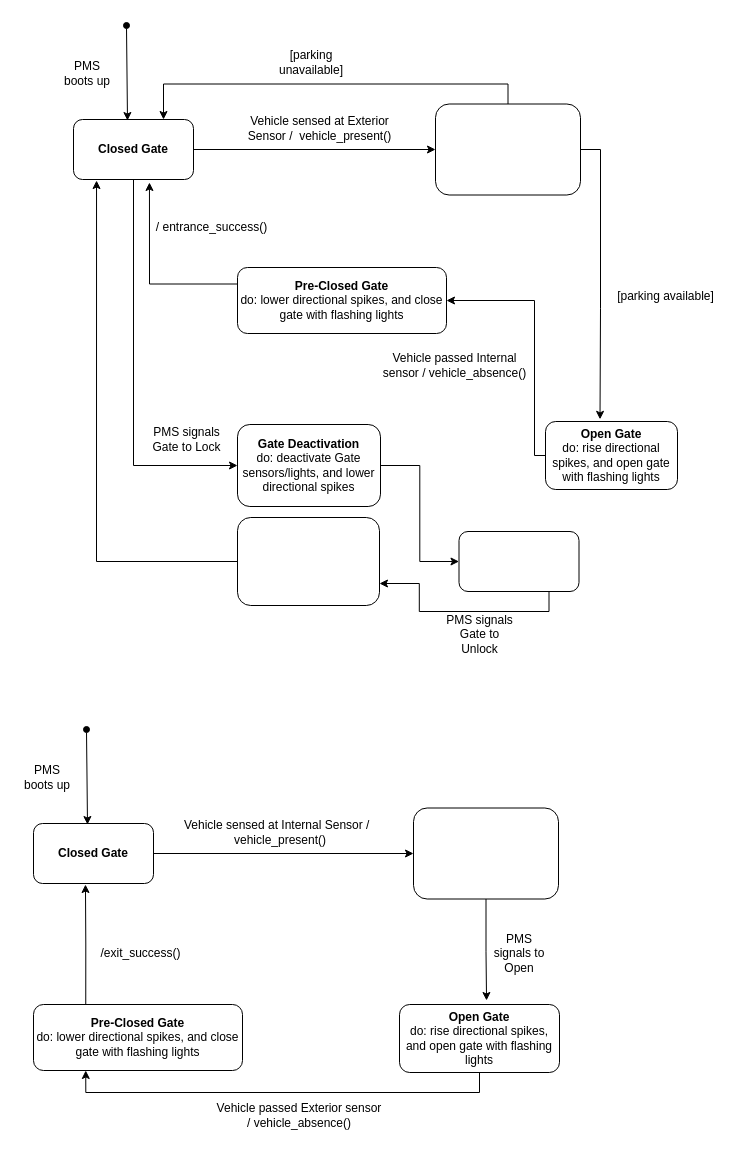
This 743x1175 diagram has some shape labels left out. Each missing label, with the box of its shape:
Gate Reactivation do: reactivate gate sensors/lights: (236, 516, 380, 606)
Locked Gate: (458, 530, 579, 592)
Pre-Opened Gate do: analyze PMS signal: (412, 807, 558, 899)
Pre-Opened Gate do: verify availability: (434, 103, 580, 195)
